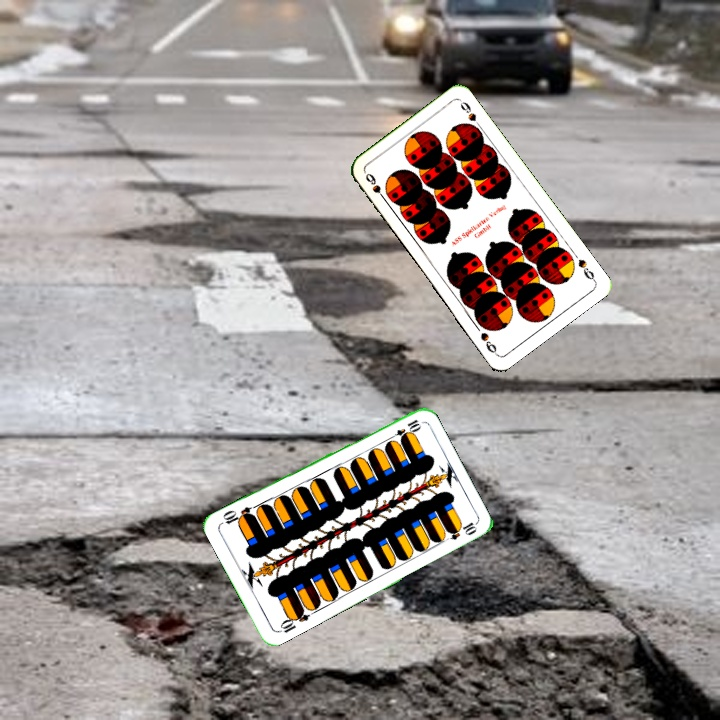E10: (274, 605, 312, 635), (385, 415, 423, 443)
S9: (361, 169, 389, 204), (574, 255, 598, 284)
